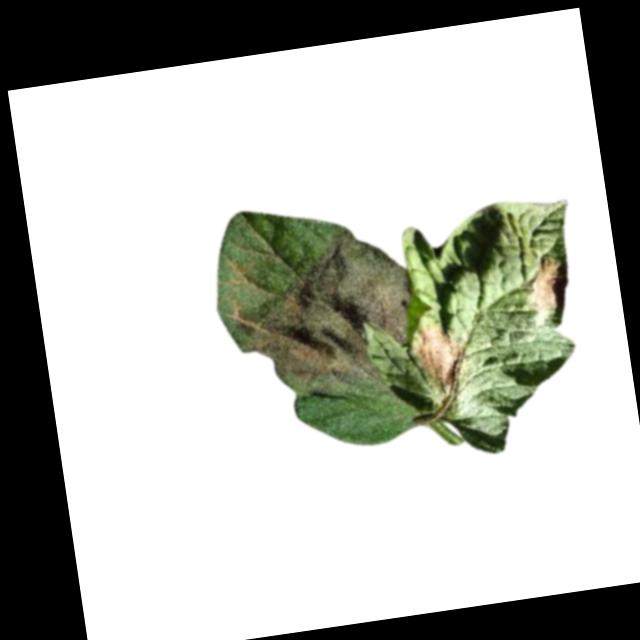Late_blight: (219, 218, 428, 417), (411, 317, 473, 390), (523, 250, 574, 317)
